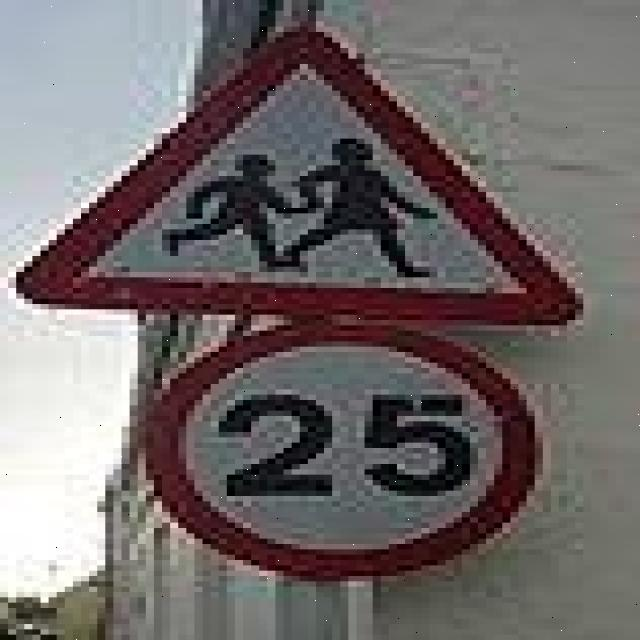speed limit 30: (148, 323, 538, 579)
